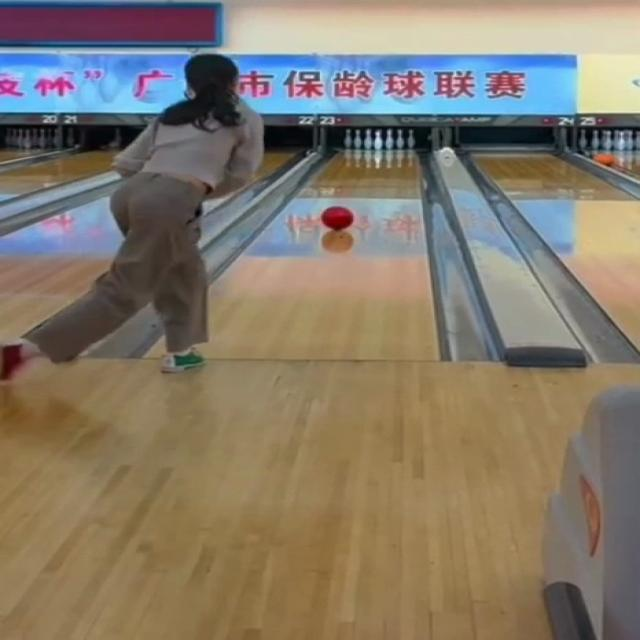alley: (210, 151, 437, 359)
balls: (321, 206, 353, 230)
bottle: (341, 128, 415, 152)
